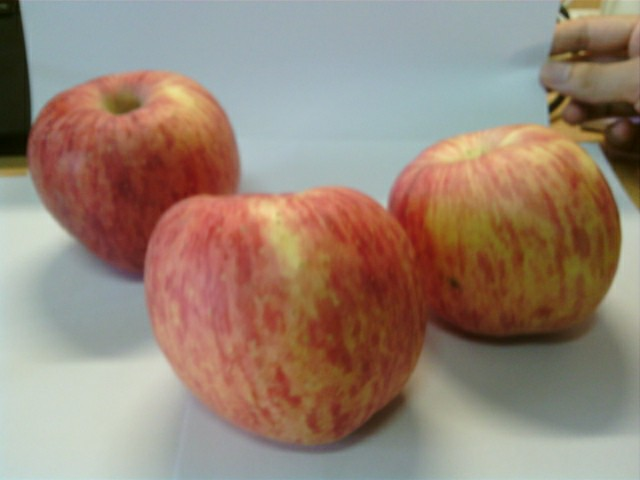normal_apple: (149, 192, 424, 451), (386, 125, 622, 343), (27, 71, 241, 283)
